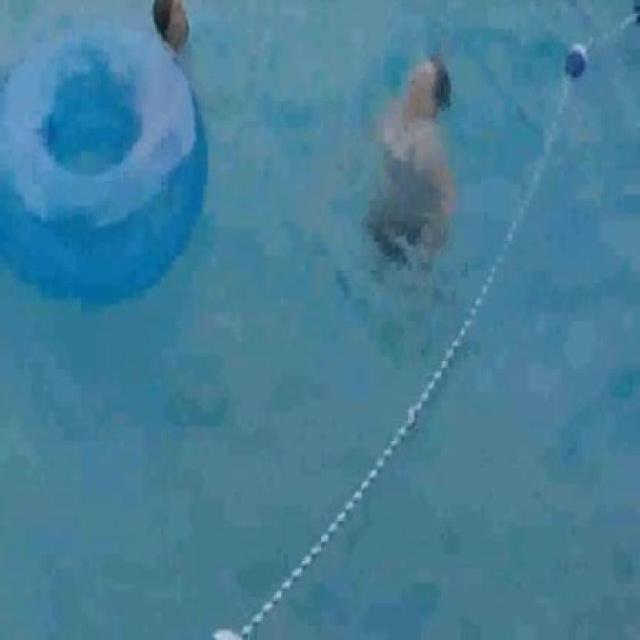drowning: (376, 52, 450, 276), (148, 0, 189, 54)
